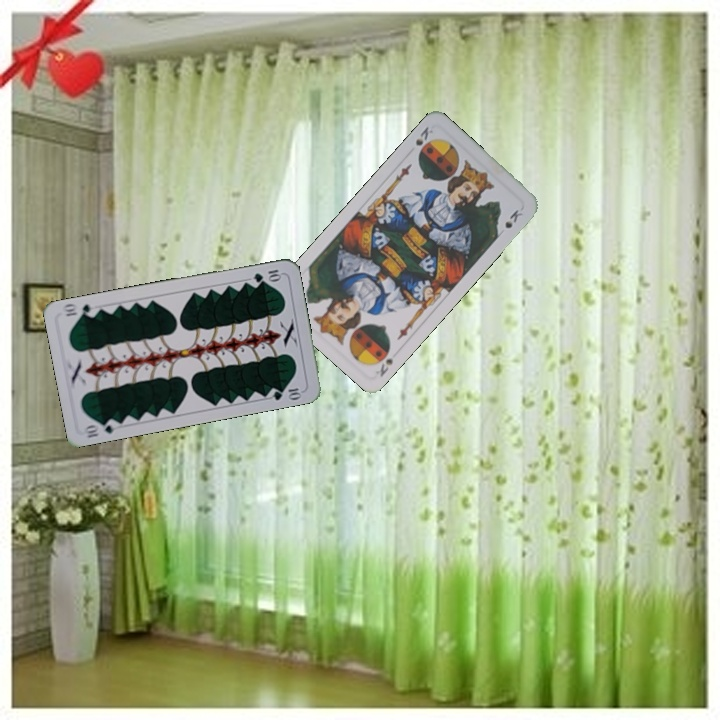G10: (80, 415, 121, 440), (249, 265, 284, 285)
SK: (371, 343, 395, 380), (411, 122, 436, 149)
